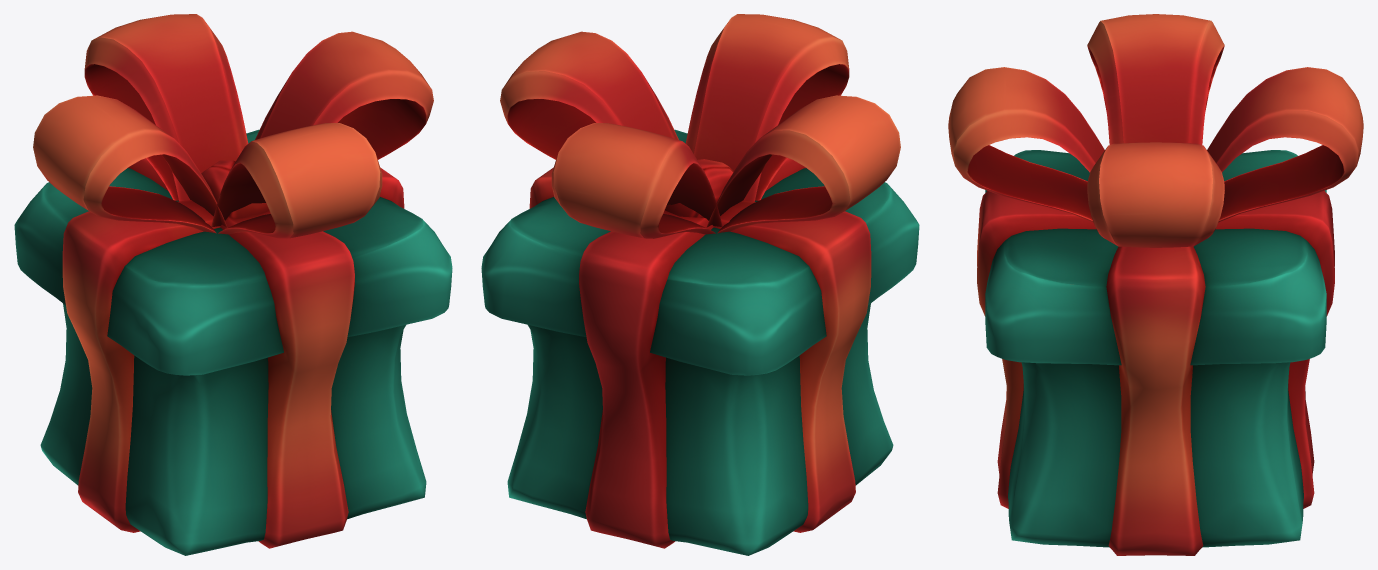
Rendered from present_02_LOD0.fbx.
3 views of the same model, side by side, from view 1: azimuth 30°, elevation 25°; view 2: azimuth 150°, elevation 25°; view 3: azimuth 270°, elevation 25° (orthographic).
Parts seen in each view (by area): view 1: present_02_LOD0; view 2: present_02_LOD0; view 3: present_02_LOD0.
Part boxes in pixels (bbox=[...]): present_02_LOD0: bbox=[14, 14, 452, 555]; present_02_LOD0: bbox=[481, 14, 919, 555]; present_02_LOD0: bbox=[948, 14, 1363, 555].
Size of the model in its own units: 53.26 by 59.07 by 53.26.
